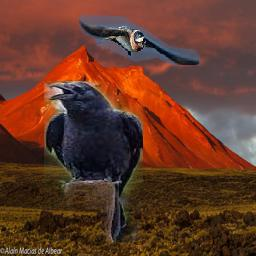Crow: (45, 82, 144, 243)
Swallow: (80, 15, 201, 65)
